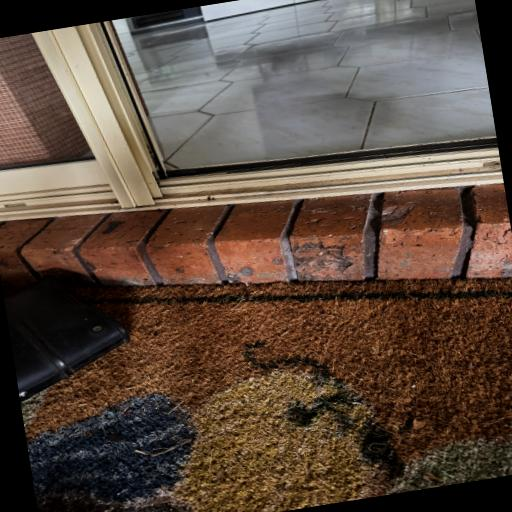step: (145, 147, 512, 284)
